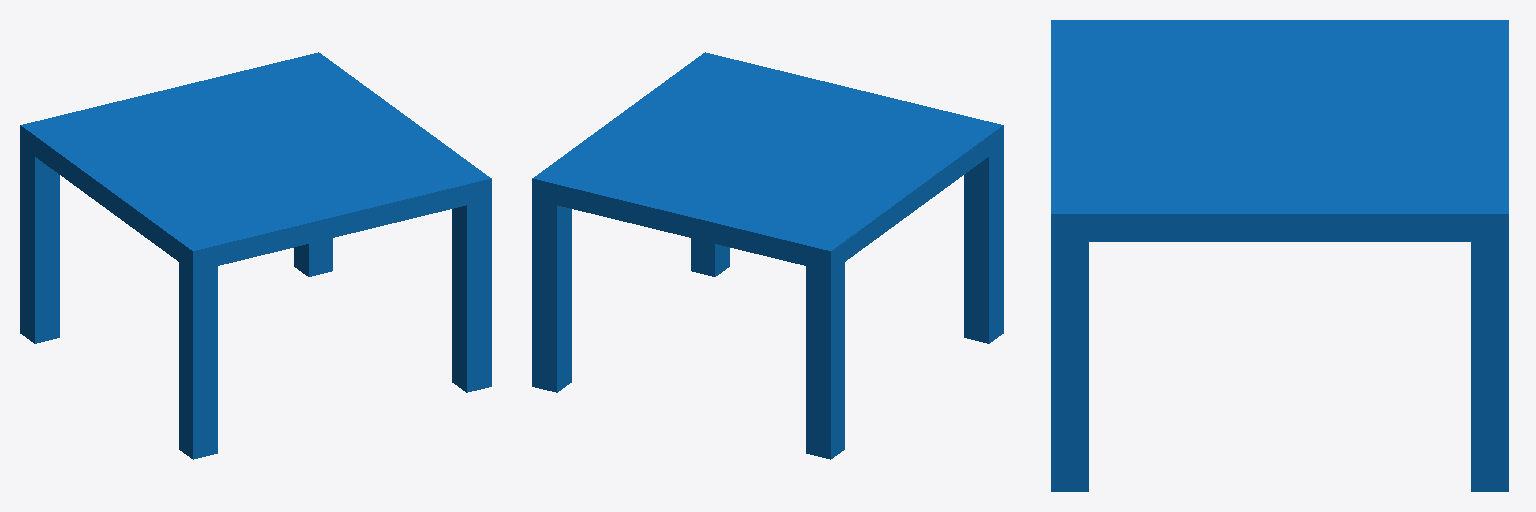
robot.urdf — cube:
<?xml version="0.0" ?>
<robot name="cube">
  <link name="baseLink">
    <contact>
      <lateral_friction value="1.0"/>
      <rolling_friction value="0.0"/>
      <contact_cfm value="0.0"/>
      <contact_erp value="1.0"/>
    </contact>
    <inertial>
      <mass value="5.020"/>
      <origin rpy="0 0 0" xyz="0 0 0"/>
      <inertia ixx="0.5" ixy="0" ixz="0" iyy="0.5" iyz="0" izz="3e-06"/>
    </inertial>
    <visual>
      <origin rpy="0 0 0" xyz="0 0 0"/>
      <geometry>
        <mesh filename="mesa3.obj" />
      </geometry>
      <material name="white">
        <color rgba="0.1 0.5 0.8 1"/>
      </material>
    </visual>
    <collision>
      <origin rpy="0 0 0" xyz="0 0 0"/>
      <geometry>
        <mesh filename="mesa3.obj"/>
      </geometry>
    </collision>
  </link>
</robot>

--- What the picture shows (computed from the rendered views, not written in the file) ---
3 views of the same robot in one strip: view 1: azimuth 30°, elevation 25°; view 2: azimuth 150°, elevation 25°; view 3: azimuth 270°, elevation 25° (orthographic).
Model cube with 1 links and 0 joints (none), rooted at baseLink, posed every joint at zero.
Links seen in each view (by area): view 1: baseLink; view 2: baseLink; view 3: baseLink.
Boxes of the visible links, bbox=[...] form: baseLink: bbox=[20, 52, 491, 459]; baseLink: bbox=[532, 52, 1003, 459]; baseLink: bbox=[1051, 20, 1508, 491].
Size in the robot's own frame: 600 by 600 by 400 metres.
1 mesh visuals loaded from 1 distinct referenced files (1 OBJ).